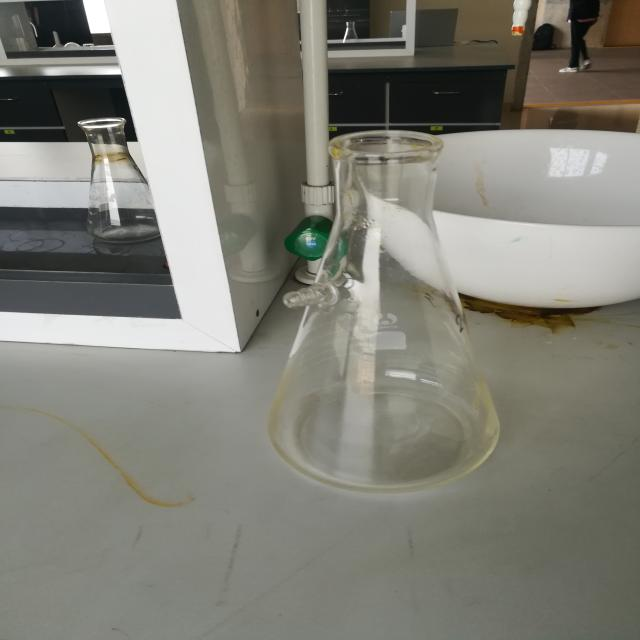Conical_Flask: (239, 96, 526, 522)
